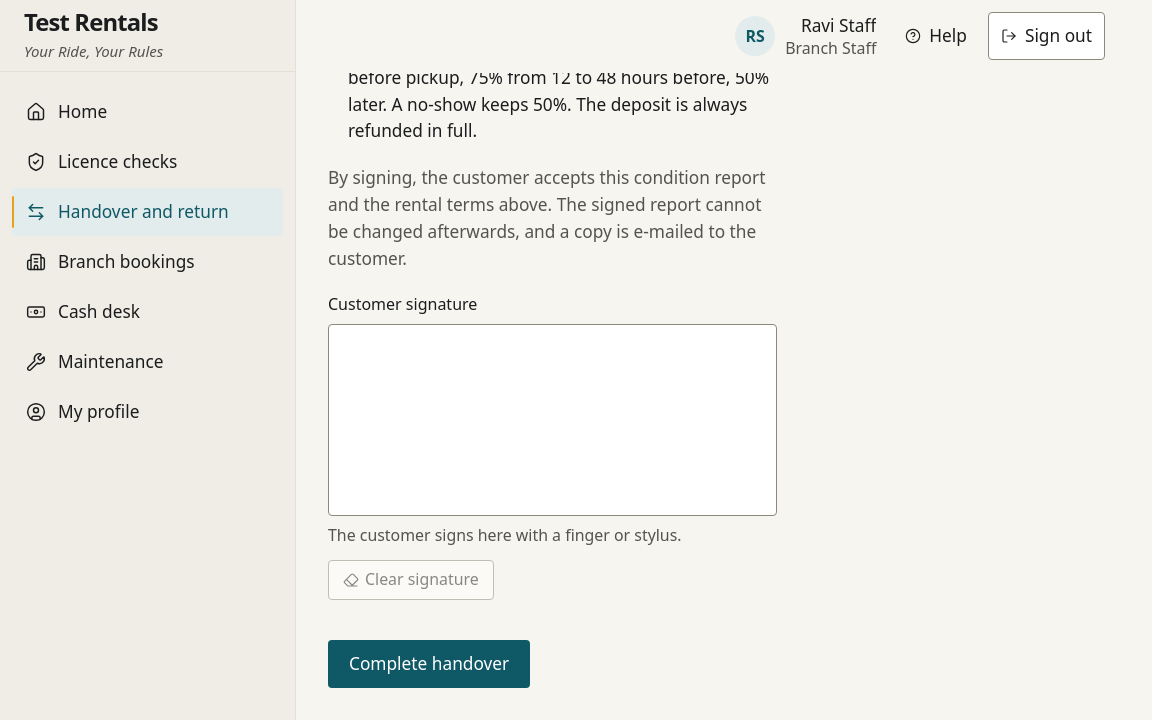
Scenario: Handover.Checklist, Handover.Sign and Handover.Activate › asks for every side and the signature before sending anything
The image size is (1152, 720).
(page scrolled)
Click the button "Complete handover": (429, 664) [328,640,530,688]
(page scrolled)
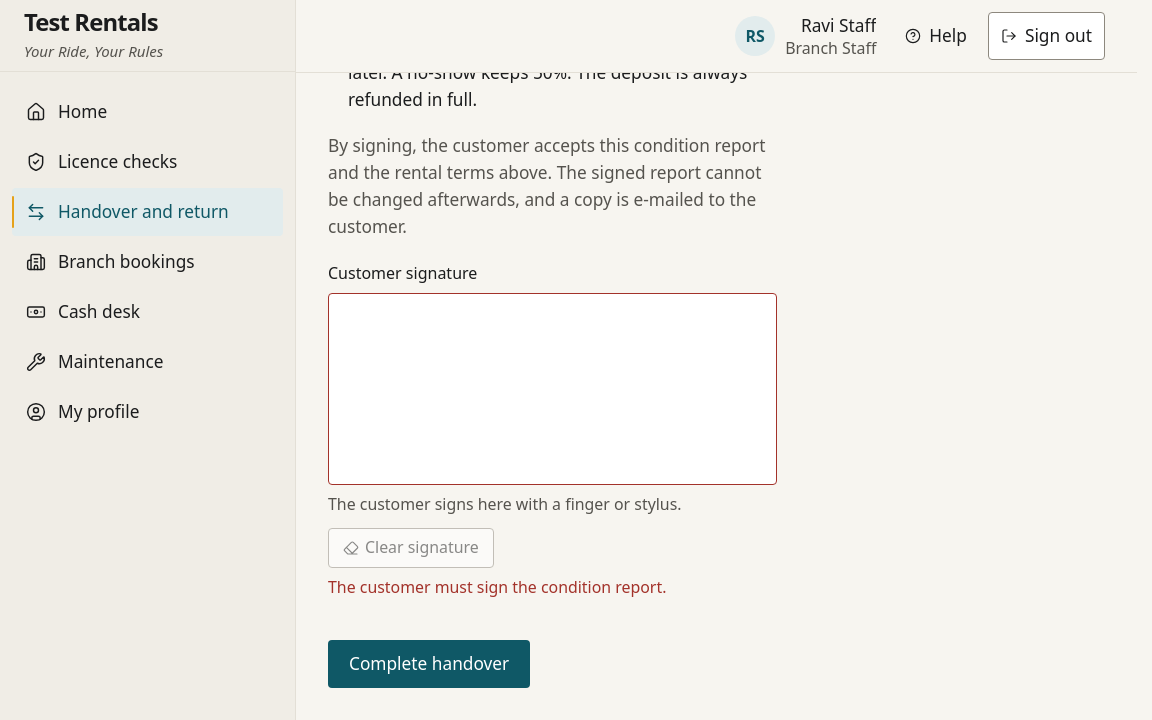
Expected: the text "The customer must sign the condition report." is shown, [328,576,666,598]
